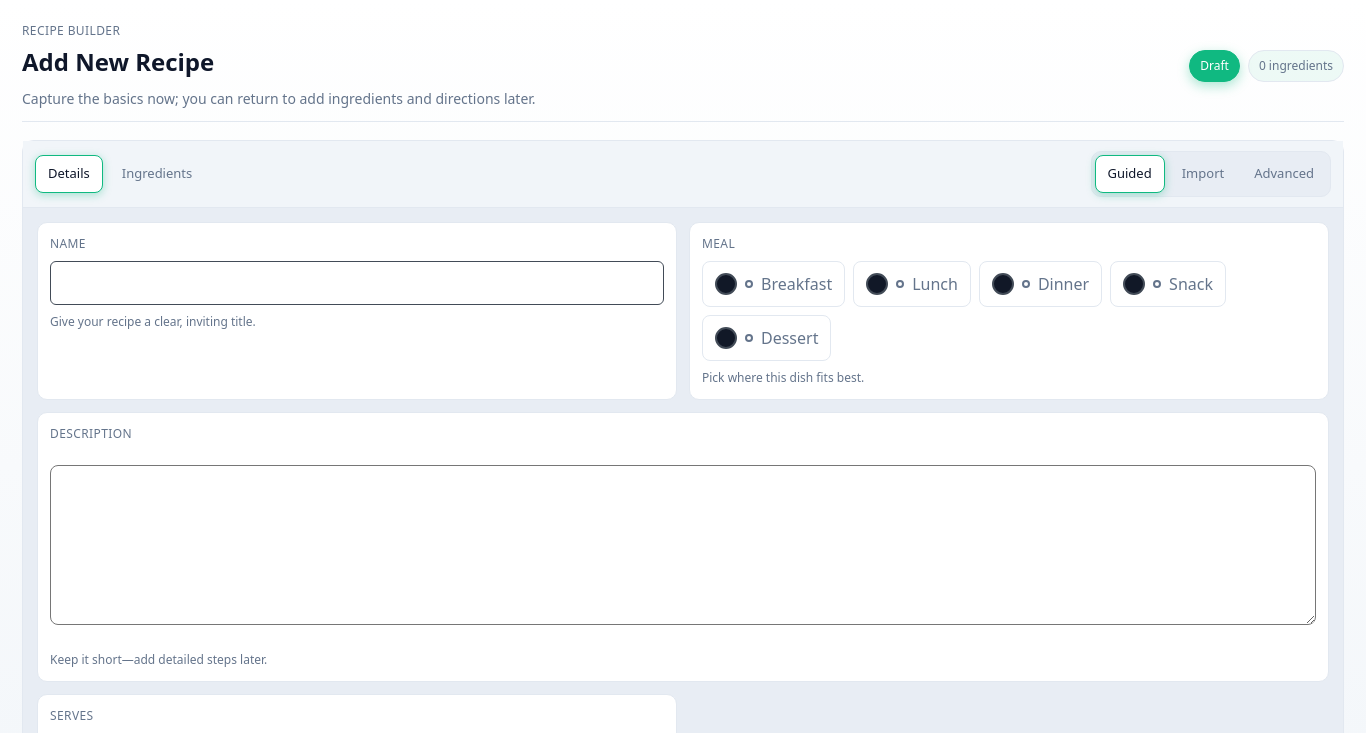
Test case: Store Page - Recipe Creation › Save Recipe button enablement › enables Save Recipe button when all required fields are filled
This screenshot has width=1366, height=733.
Type "Ham and Cheese Sandwich" into the field with placeholder "e.g. Smoky chipotle chili". click: (357, 282)
box: [50, 260, 664, 304]
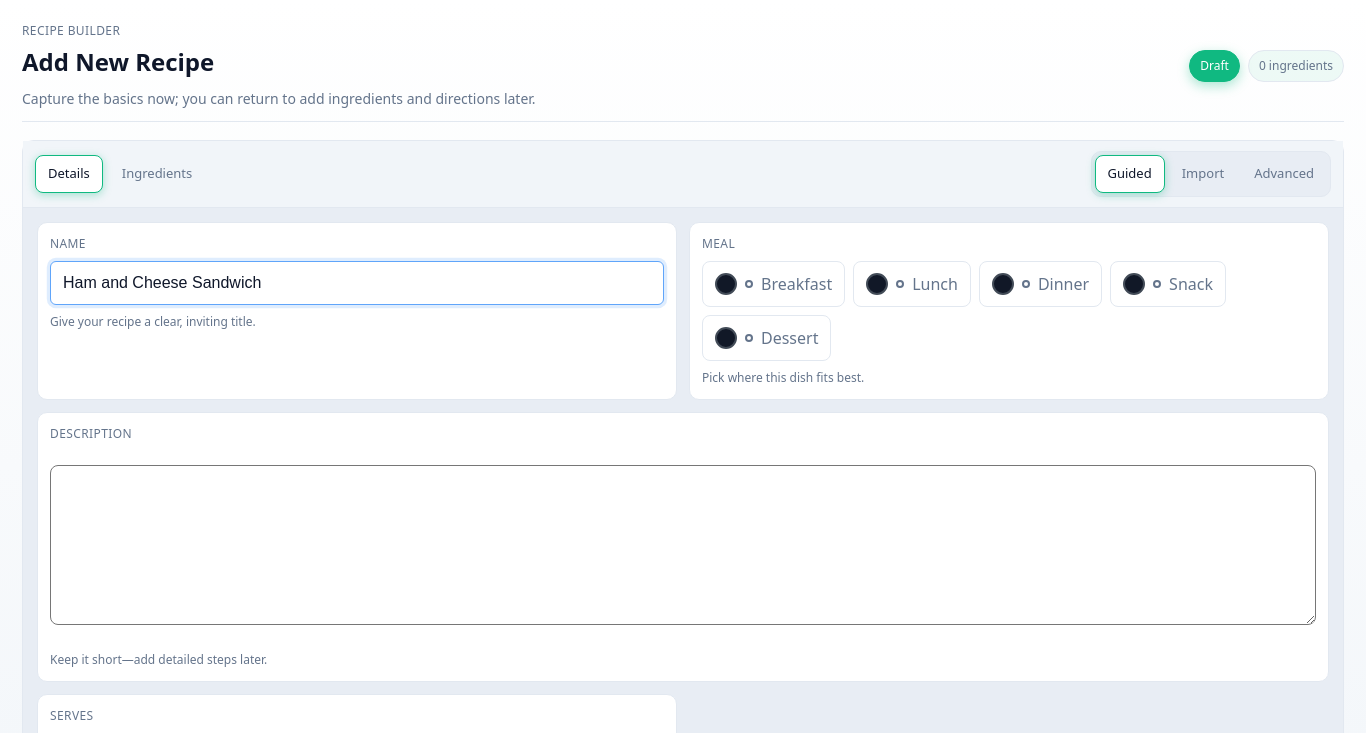
Click the radio button labelled "Lunch". click: (912, 284)
box: [853, 260, 971, 306]
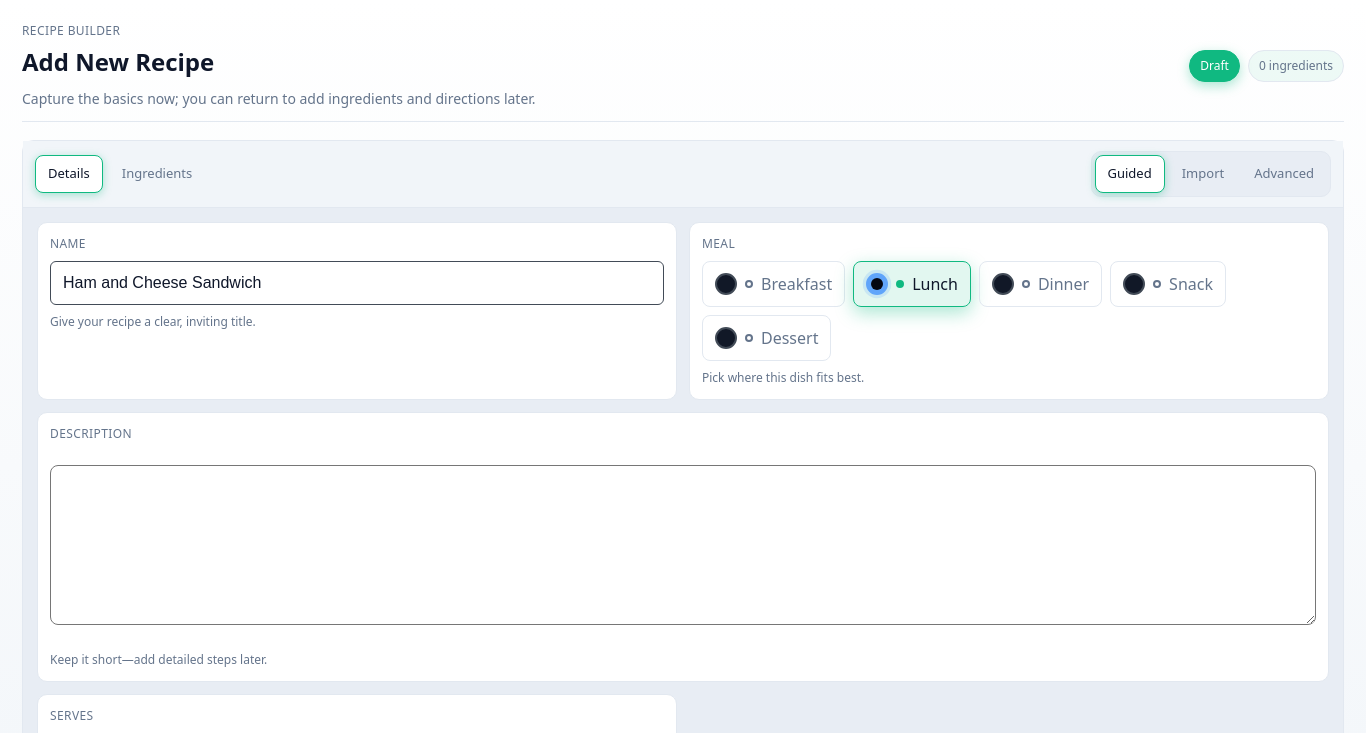
Type "A test description" into the text box with placeholder "Describe flavors, prep time, or serving ideas.". click: (683, 544)
box: [50, 464, 1316, 624]
(page scrolled)
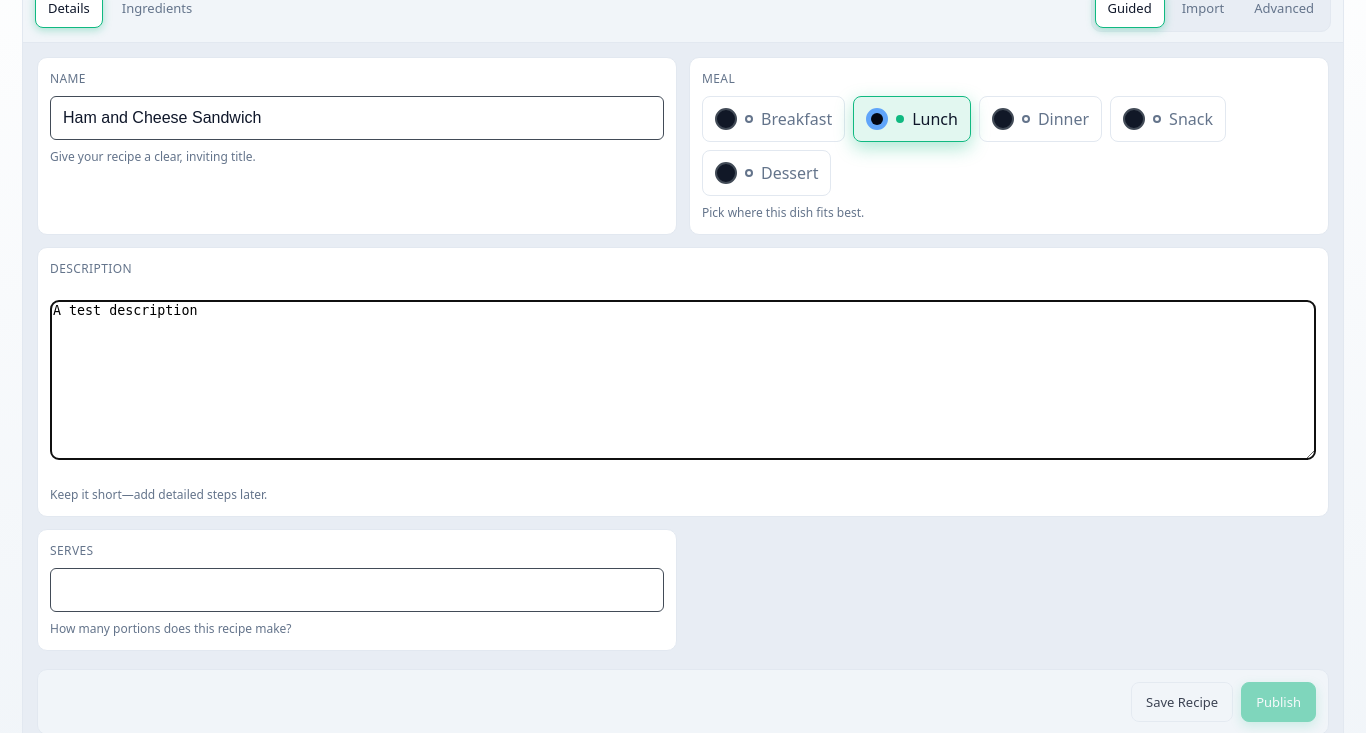
Now the button "Save Recipe" is enabled, box [1131, 682, 1233, 722]
